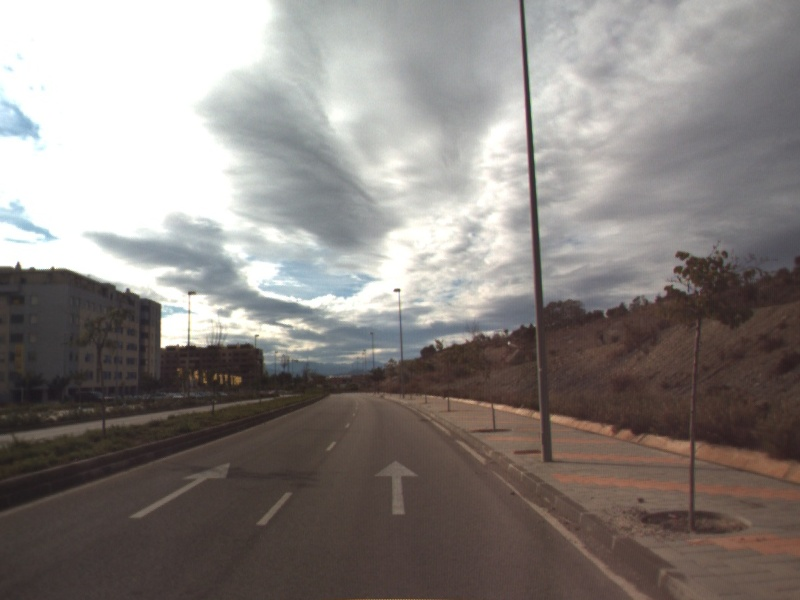STRAIGHT: (127, 461, 232, 520), (372, 458, 421, 516)
